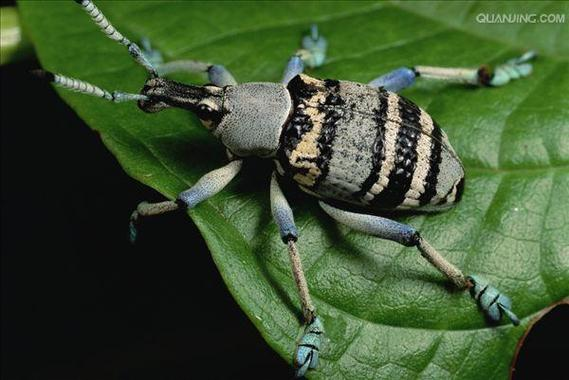Curculionidae: (30, 1, 537, 377)
